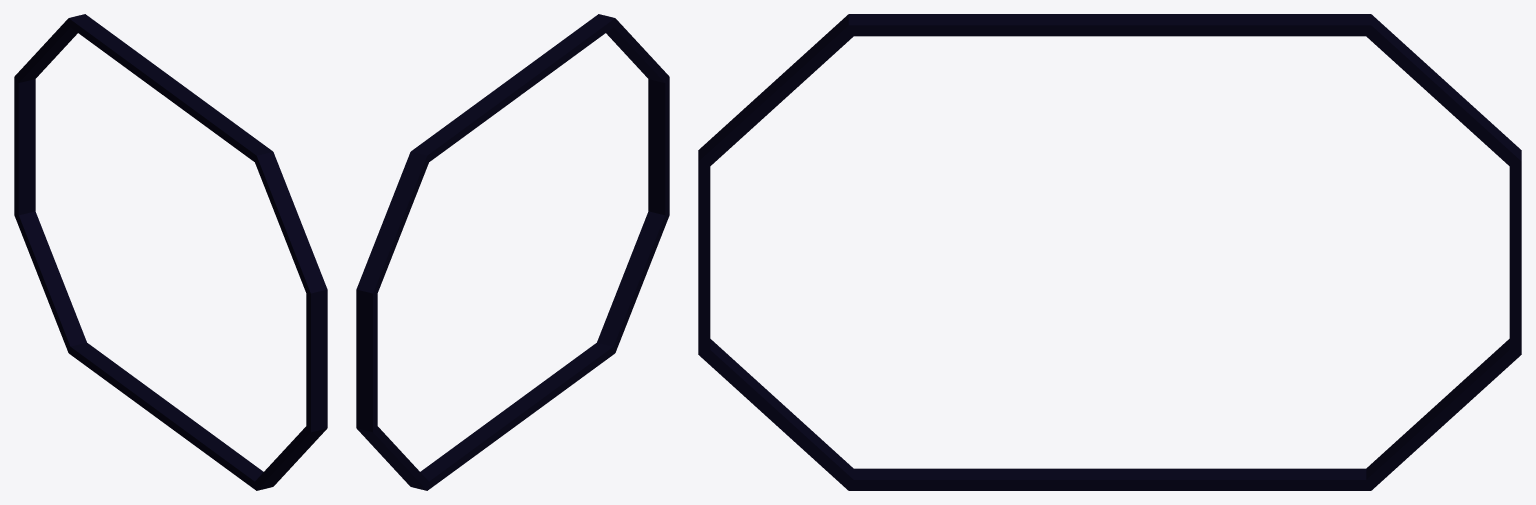
File: dooroutlineframe.glb
The picture shows the model from 3 angles, left to right: view 1: azimuth 30°, elevation 25°; view 2: azimuth 150°, elevation 25°; view 3: azimuth 270°, elevation 25°; orthographic projection. The views are drawn at different scales.
Parts seen in each view (by area): view 1: Door_Left.002; view 2: Door_Left.002; view 3: Door_Left.002.
Part boxes in pixels (x1,y1,x2,y2): Door_Left.002: (14,14,327,490); Door_Left.002: (356,14,669,490); Door_Left.002: (698,14,1521,490).
Bounding box in the file's own units: 0.2025 × 3.88 × 6.22.
